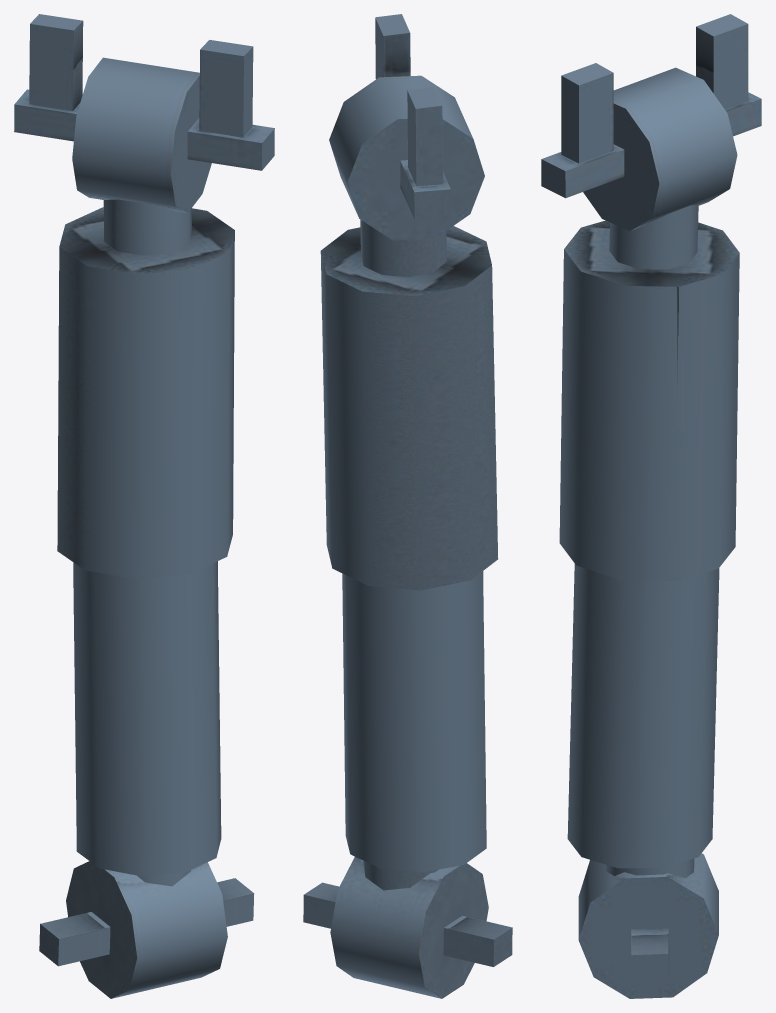
File: jianyaqi005.FBX
3 renders of one model, left to right at view 1: azimuth 30°, elevation 25°; view 2: azimuth 150°, elevation 25°; view 3: azimuth 270°, elevation 25°, orthographic. The views are drawn at different scales.
Parts seen in each view (by area): view 1: Object094; view 2: Object094; view 3: Object094.
Boxes of the visible parts, x1,y1,x2,y2 form: Object094: (14,14,274,998); Object094: (303,14,512,998); Object094: (541,14,761,998).
Bounding box in the file's own units: 0.0861 × 0.3983 × 0.0858.
